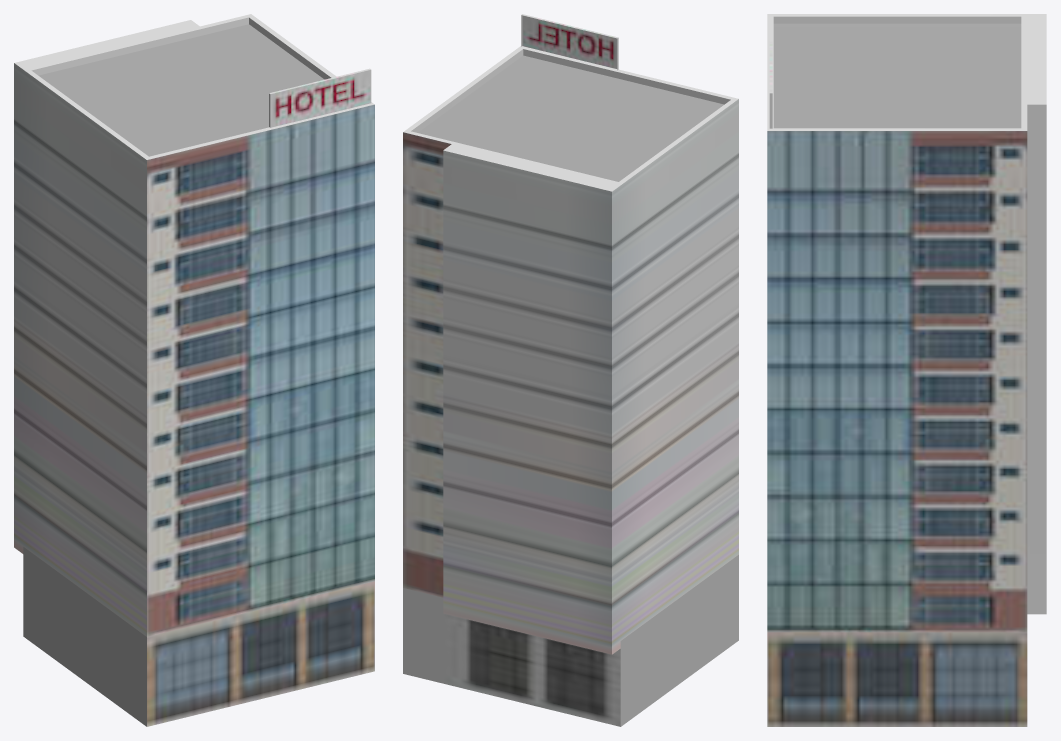
3 views of the same model, side by side, from view 1: azimuth 30°, elevation 25°; view 2: azimuth 150°, elevation 25°; view 3: azimuth 270°, elevation 25° (orthographic). The views are drawn at different scales.
Parts seen in each view (by area): view 1: 63bcc12be017ee342350b825; view 2: 63bcc12be017ee342350b825; view 3: 63bcc12be017ee342350b825.
Boxes of the visible parts, x1,y1,x2,y2 form: 63bcc12be017ee342350b825: [14, 14, 374, 726]; 63bcc12be017ee342350b825: [403, 14, 738, 726]; 63bcc12be017ee342350b825: [767, 14, 1046, 726].
Bounding box in the file's own units: 17.68 × 44.58 × 17.83.
Materials: 1 (1 with a texture image).
